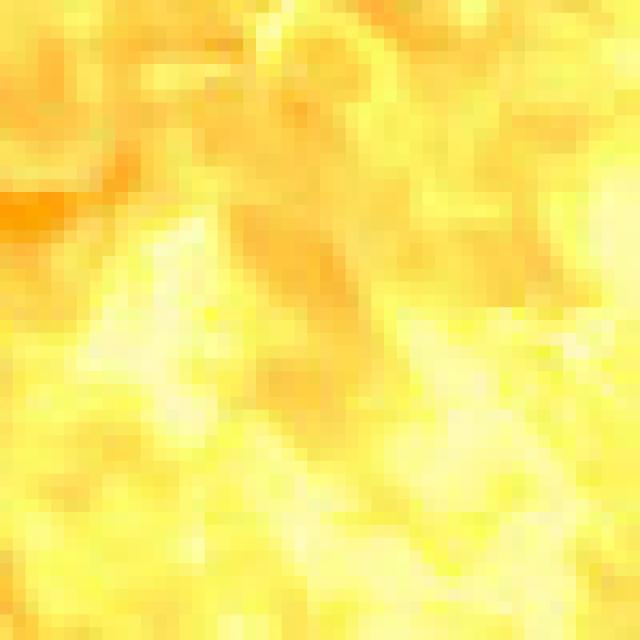fire: (0, 4, 624, 640)
